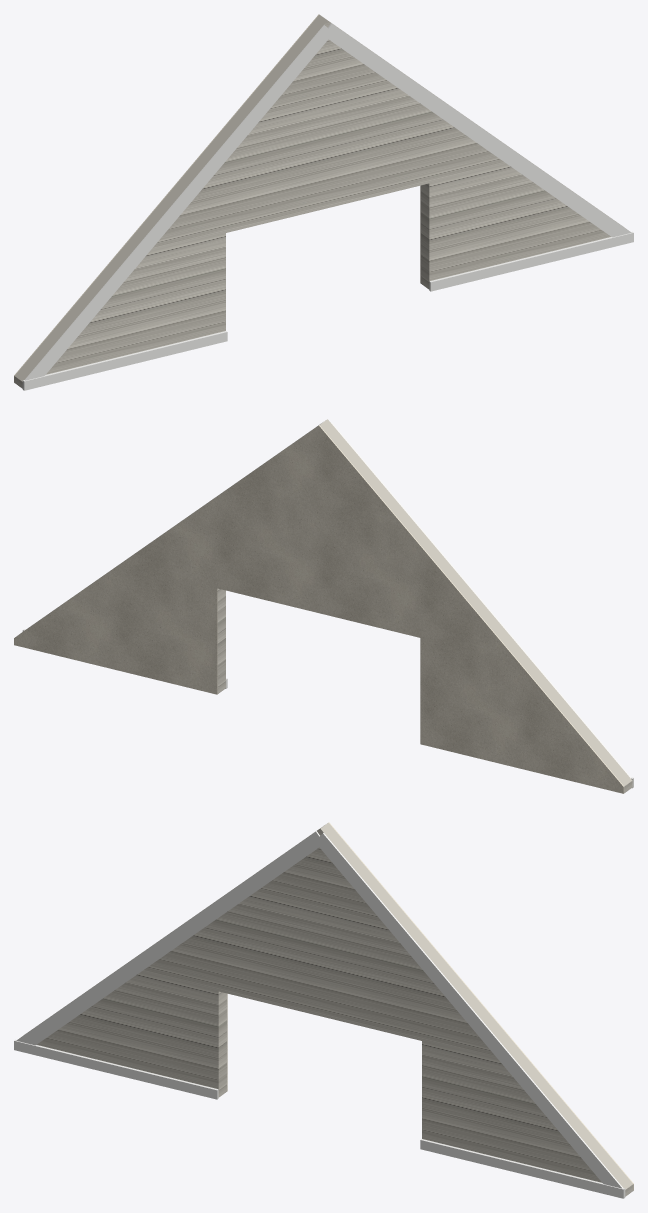
File: gable_nave_front.glb
3 views of the same model, one above another, from view 1: azimuth 30°, elevation 25°; view 2: azimuth 150°, elevation 25°; view 3: azimuth 330°, elevation 25° (orthographic).
Visible parts, largest first — view 1: gable_nave_front_siding, gable_nave_front_trim, gable_nave_front_plaster; view 2: gable_nave_front_plaster, gable_nave_front_siding, gable_nave_front_trim; view 3: gable_nave_front_siding, gable_nave_front_trim, gable_nave_front_plaster.
Part boxes in pixels (box(x1,y1,x2,y2)): gable_nave_front_siding: box(14, 14, 628, 388); gable_nave_front_trim: box(22, 23, 633, 390); gable_nave_front_plaster: box(14, 14, 420, 382); gable_nave_front_plaster: box(14, 425, 624, 793); gable_nave_front_siding: box(20, 419, 632, 792); gable_nave_front_trim: box(22, 423, 633, 788); gable_nave_front_siding: box(19, 822, 633, 1196); gable_nave_front_trim: box(14, 831, 625, 1198); gable_nave_front_plaster: box(227, 822, 633, 1190).
Bounding box in the file's own units: 12 × 5.55 × 0.35.
3 materials, 2 textured.
